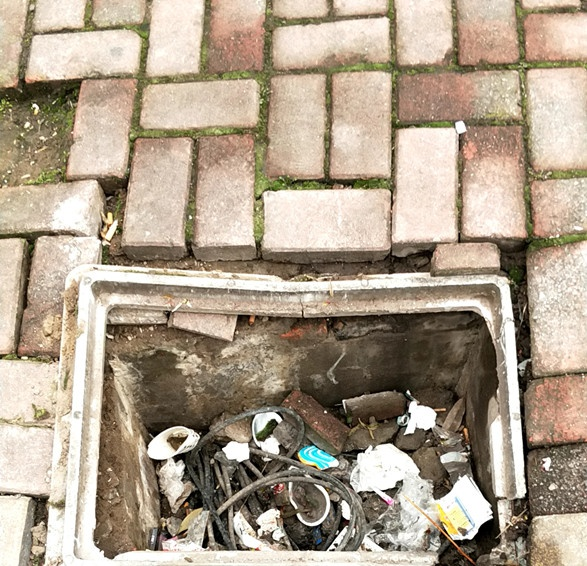lose: (53, 262, 528, 566)
